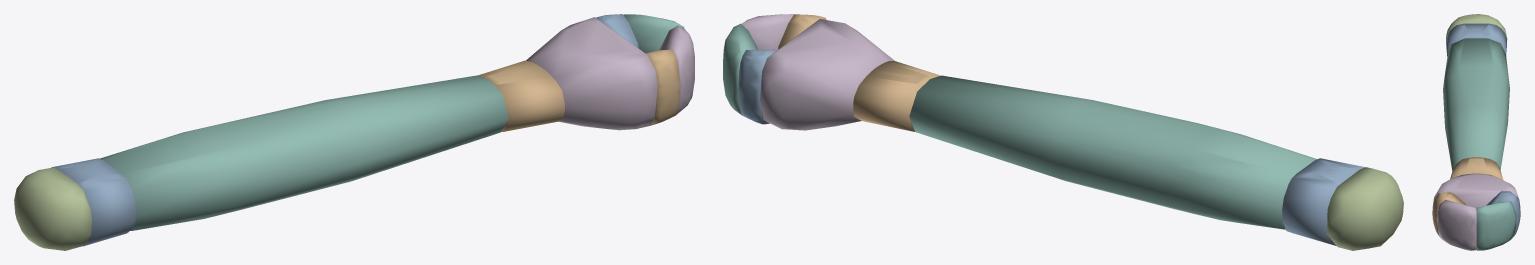
The picture shows the model from 3 angles, left to right: view 1: azimuth 30°, elevation 25°; view 2: azimuth 150°, elevation 25°; view 3: azimuth 270°, elevation 25°; orthographic projection. The views are drawn at different scales.
Bounding box in the file's own units: 2.02 × 0.2013 × 0.3712.
